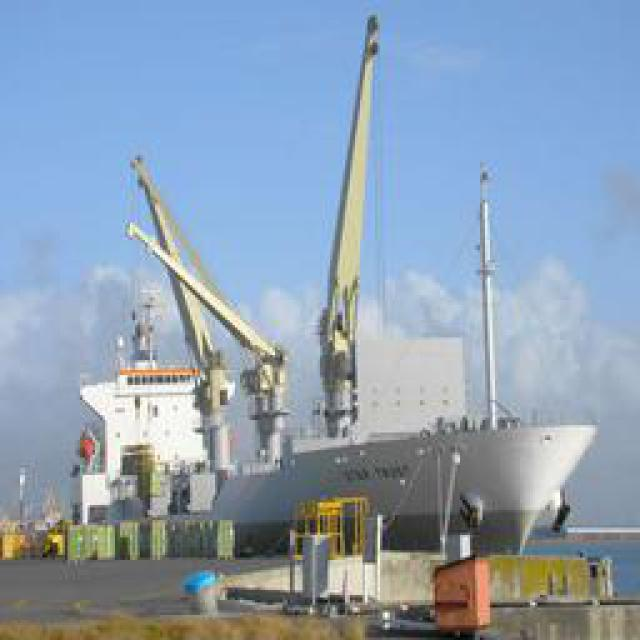Ship: (63, 18, 607, 563)
